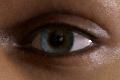eye: (40, 29, 74, 54)
